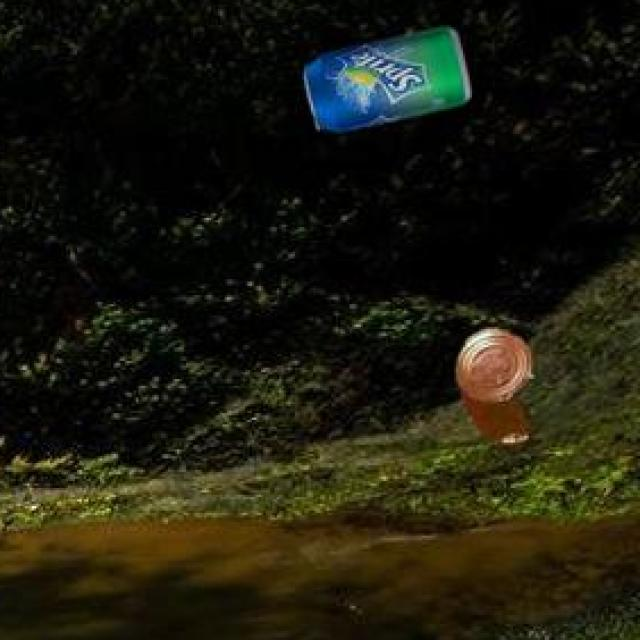logam: (308, 31, 473, 135), (460, 332, 537, 448)
